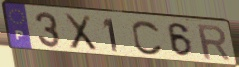1: (102, 18, 120, 53)
3: (34, 11, 62, 50)
6: (166, 22, 194, 59)
C: (131, 19, 165, 57)
R: (195, 24, 233, 63)
X: (62, 12, 99, 52)
